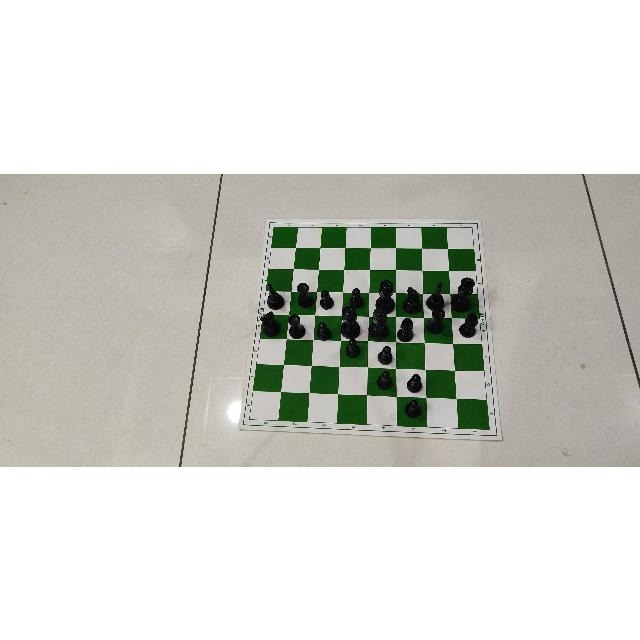black-bishop: (456, 311, 480, 341), (460, 310, 480, 338), (396, 315, 416, 342), (395, 315, 415, 341)
black-king: (366, 303, 391, 340), (452, 273, 476, 310), (451, 274, 475, 307), (368, 306, 390, 339)
black-knight: (261, 280, 289, 311), (426, 279, 450, 311), (257, 309, 283, 336), (261, 281, 286, 309), (254, 309, 280, 335), (402, 283, 423, 315), (427, 280, 449, 310), (401, 284, 424, 312)
black-pawn: (374, 366, 396, 391), (313, 319, 335, 340), (341, 339, 364, 359), (405, 371, 425, 393), (374, 345, 396, 365), (347, 285, 365, 309), (376, 344, 396, 364), (374, 368, 394, 388), (404, 397, 424, 417), (347, 286, 365, 308), (319, 288, 337, 309), (406, 371, 424, 391), (317, 287, 333, 309), (316, 318, 332, 340), (405, 398, 423, 416), (346, 338, 361, 356)
black-queen: (338, 305, 362, 339), (340, 304, 364, 337), (375, 279, 397, 313)
black-rook: (294, 281, 318, 311), (428, 309, 450, 337), (286, 312, 310, 337), (427, 309, 449, 335), (293, 282, 315, 306), (285, 312, 305, 337)
